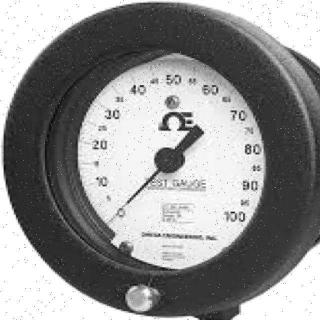gauge: (0, 0, 320, 320), (230, 186, 264, 222), (151, 146, 182, 174), (106, 198, 134, 224), (116, 197, 132, 213)
